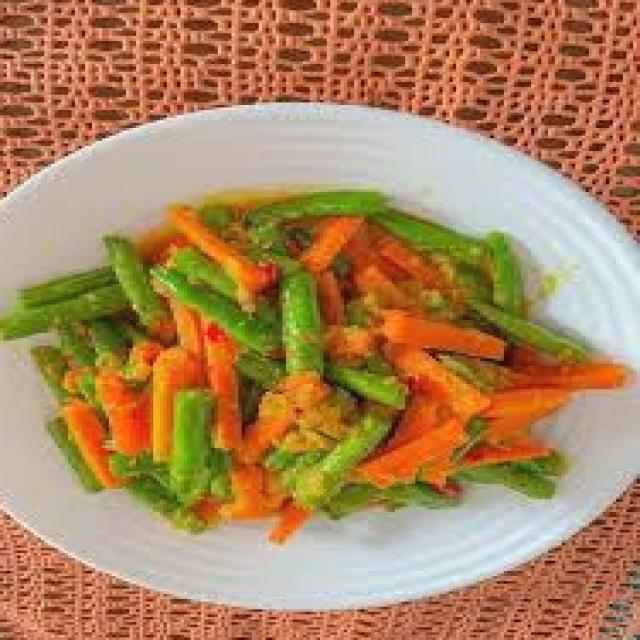kacang_panjang: (0, 249, 164, 382), (434, 217, 582, 348), (164, 257, 329, 370), (286, 421, 406, 528), (138, 411, 224, 533), (460, 458, 565, 502)
wortel: (382, 372, 598, 479), (344, 244, 484, 359), (171, 308, 254, 449)
